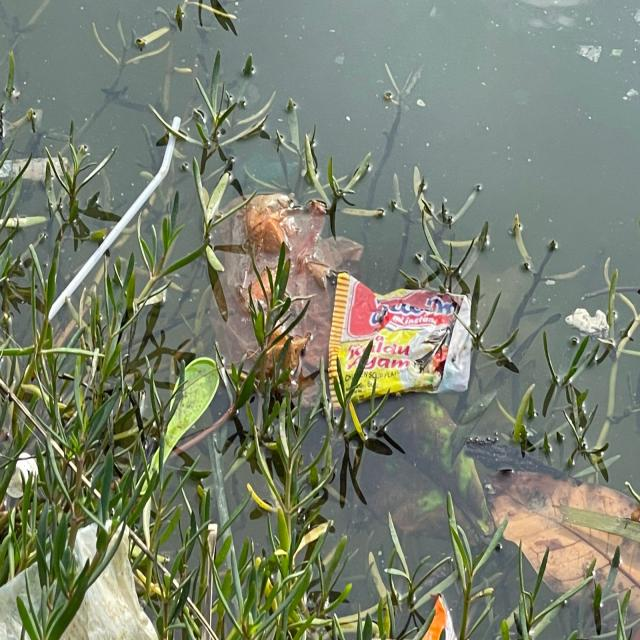Bungkus Makanan: (330, 268, 480, 420)
Kantong Plastik: (203, 192, 359, 390)
